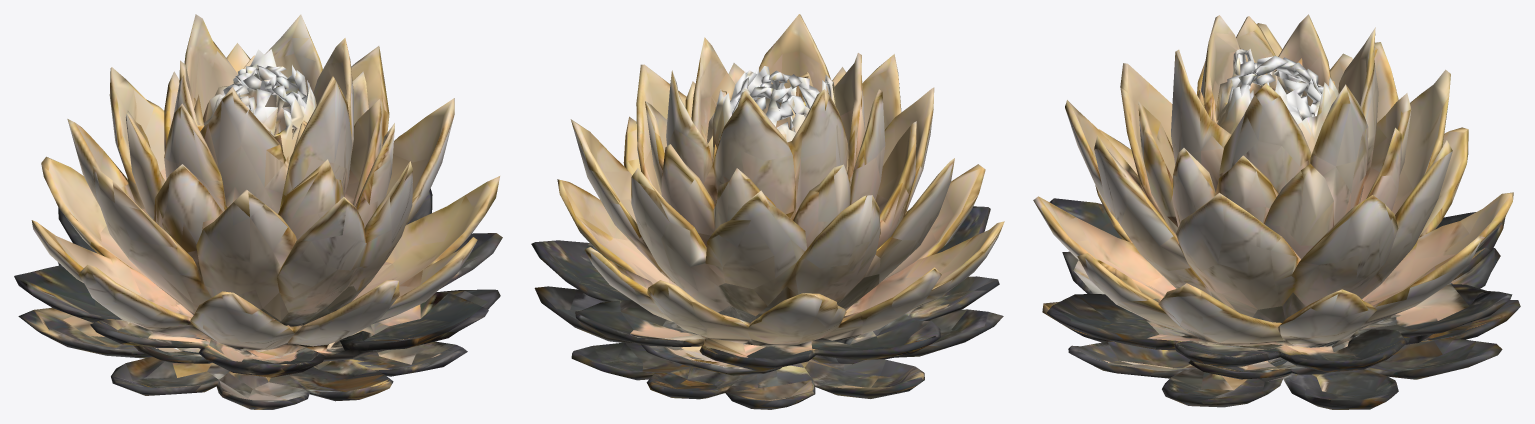
The model's file is White_Lotus.glb.
The picture shows the model from 3 angles, left to right: view 1: azimuth 30°, elevation 25°; view 2: azimuth 150°, elevation 25°; view 3: azimuth 270°, elevation 25°; orthographic projection. The views are drawn at different scales.
Visible parts, largest first — view 1: White_Lotus; view 2: White_Lotus; view 3: White_Lotus.
Part boxes in pixels (x1,y1,x2,y2): White_Lotus: [14, 14, 502, 409]; White_Lotus: [531, 14, 1004, 409]; White_Lotus: [1033, 14, 1520, 409].
Bounding box in the file's own units: 1.99 × 1.39 × 1.98.
Materials: 1 (1 with a texture image).
